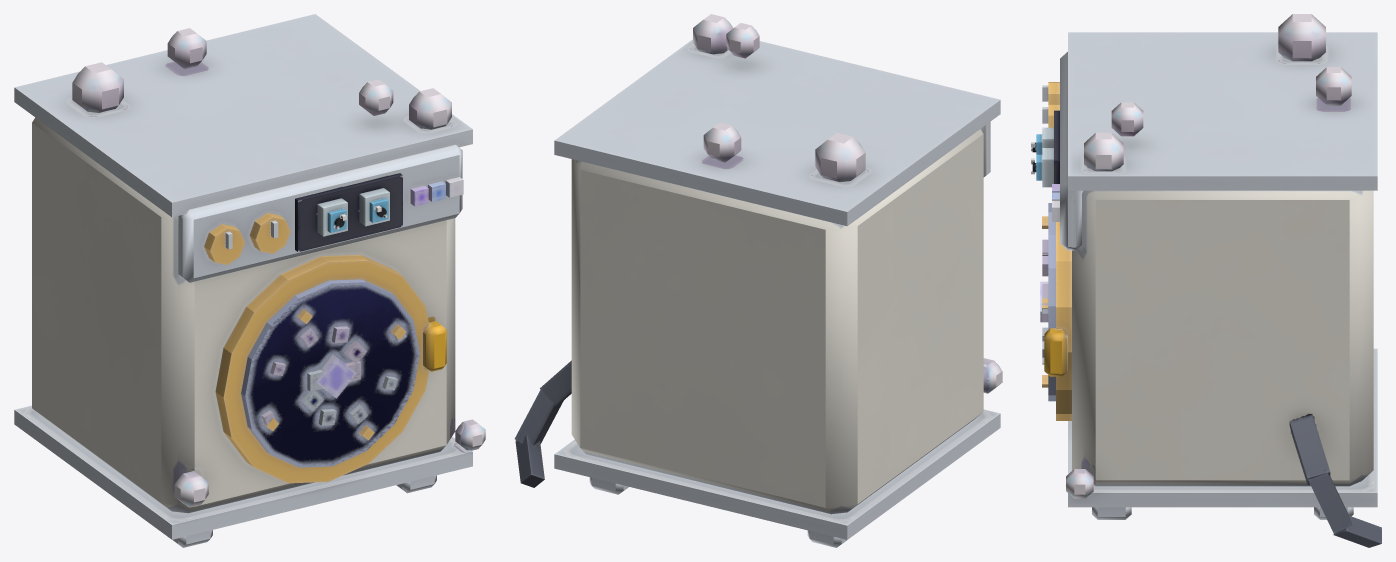
The model's file is MachineQuantique_Rig.fbx.
The picture shows the model from 3 angles, left to right: view 1: azimuth 30°, elevation 25°; view 2: azimuth 150°, elevation 25°; view 3: azimuth 270°, elevation 25°; orthographic projection. The views are drawn at different scales.
Visible parts, largest first — view 1: Body, Bubbles, Galaxy; view 2: Body, Bubbles; view 3: Body, Bubbles, Galaxy.
Part boxes in pixels (x1=…): Body: x1=14, y1=14, x2=472, y2=547; Bubbles: x1=72, y1=28, x2=485, y2=507; Galaxy: x1=261, y1=309, x2=406, y2=440; Body: x1=514, y1=39, x2=1000, y2=547; Bubbles: x1=693, y1=14, x2=1002, y2=393; Body: x1=1031, y1=32, x2=1381, y2=547; Bubbles: x1=1066, y1=14, x2=1351, y2=498; Galaxy: x1=1040, y1=216, x2=1048, y2=387.
Size of the model in its own units: 5.52 by 6 by 4.78.
Materials: 1 (1 with a texture image).
